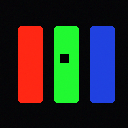1 square: (60, 54, 68, 62)
